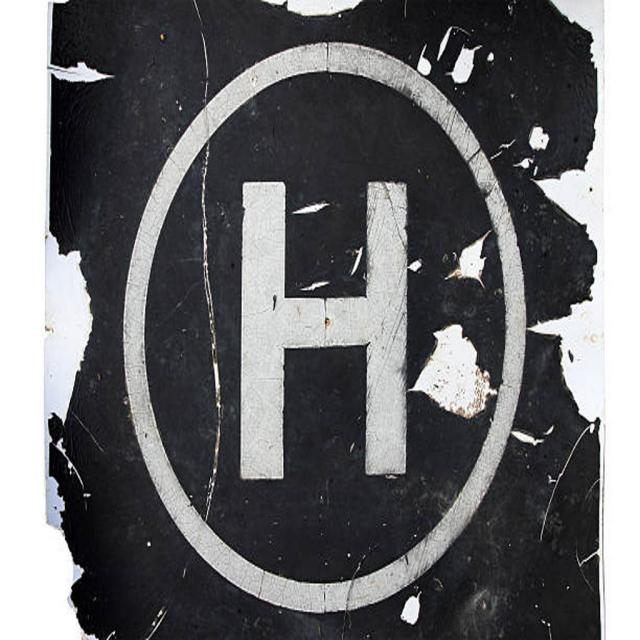helipad: (118, 40, 528, 612)
